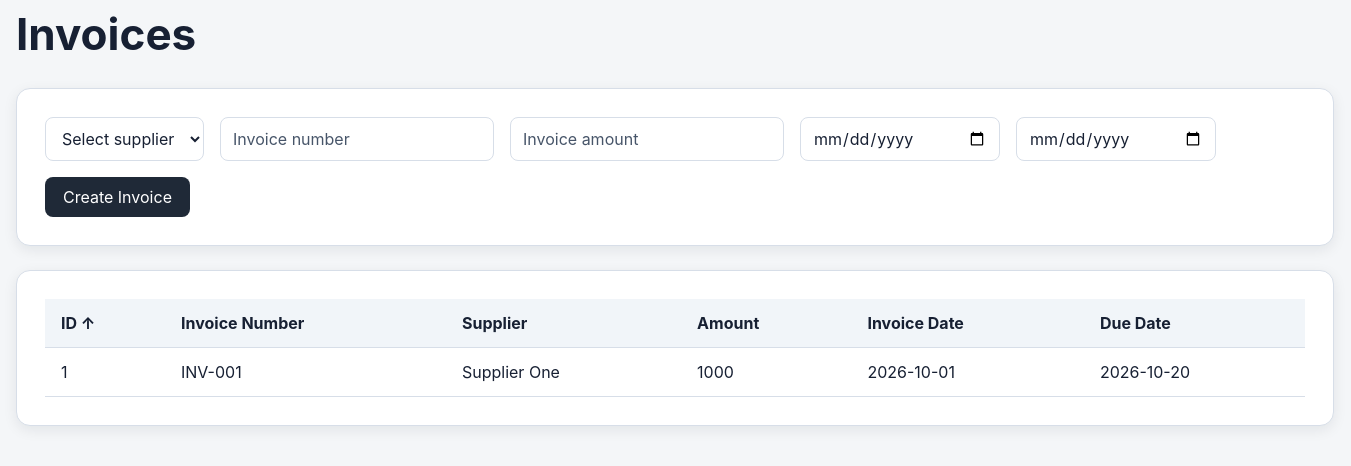
Test: InvoicesPage › blocks invalid due date
Expected: the text "INV-001" is shown, [165, 347, 446, 396]
Select "Supplier One" in the dropdown: (124, 139) [45, 117, 204, 161]
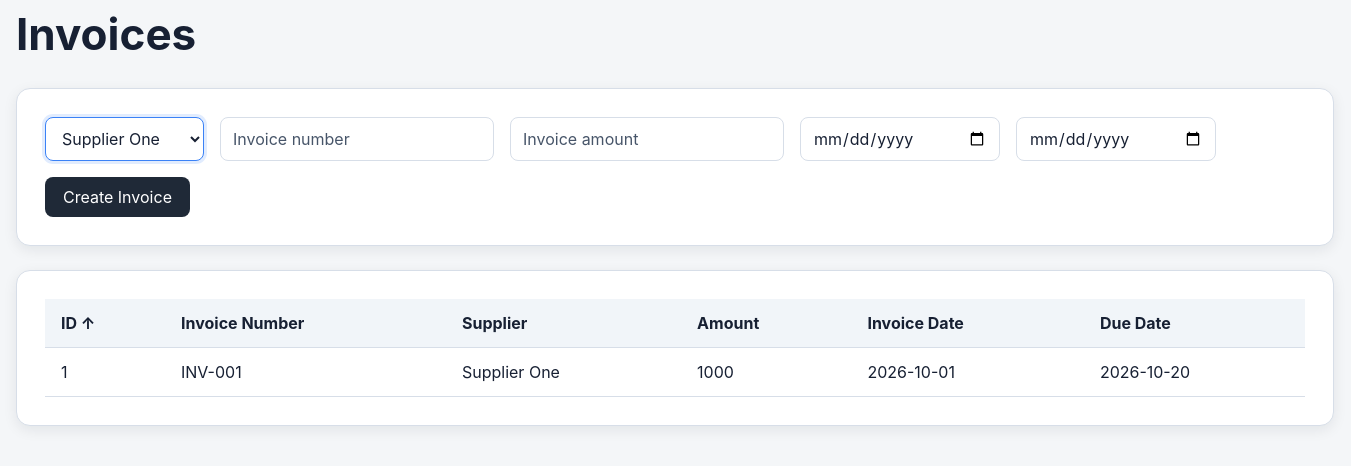
In the field with placeholder "Invoice number": (357, 139) [220, 117, 494, 161], type "INV-003"
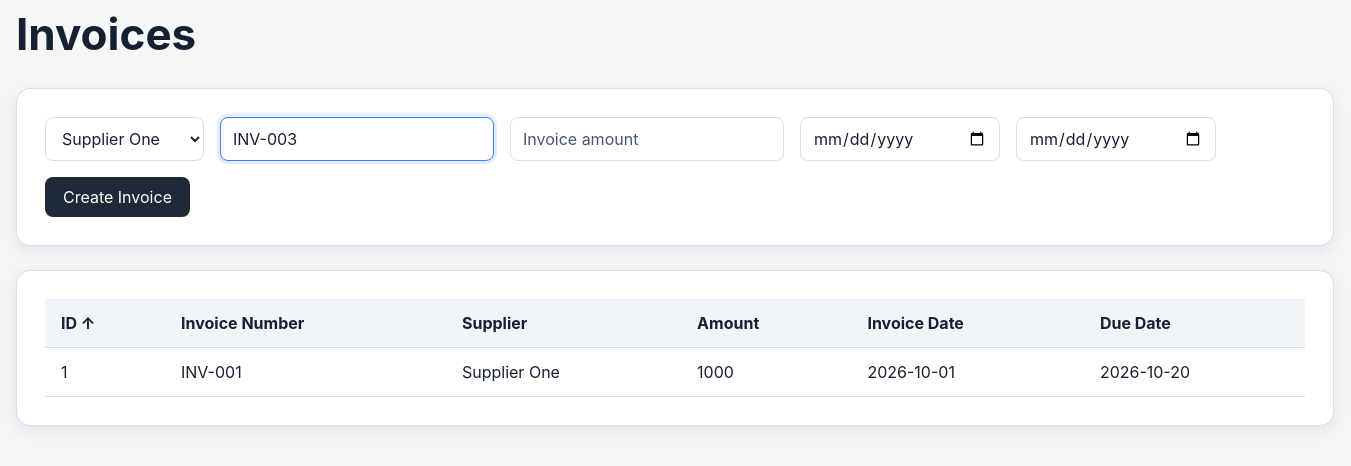
In the number field with placeholder "Invoice amount": (647, 139) [510, 117, 784, 161], type "100"
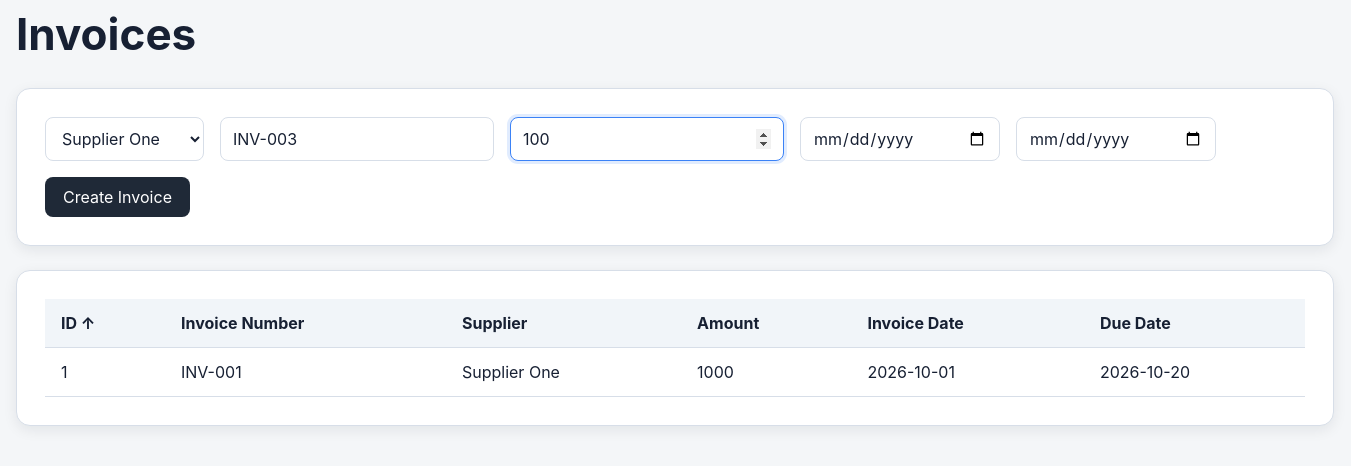
In the 1st date field: (900, 139) [800, 117, 1000, 161], type "2026-10-20"
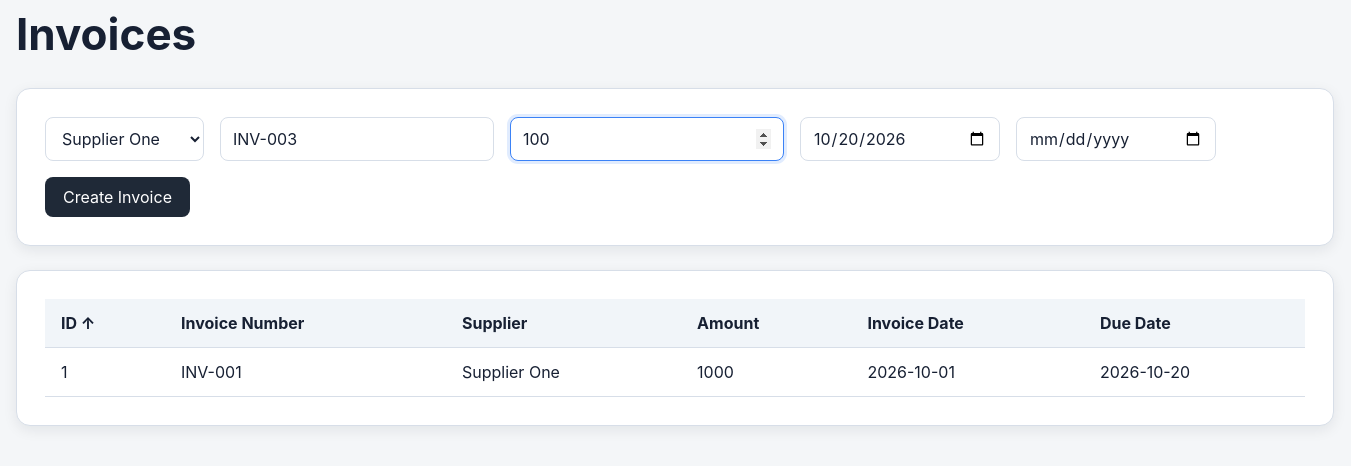
In the 2nd date field: (1116, 139) [1016, 117, 1216, 161], type "2026-10-10"
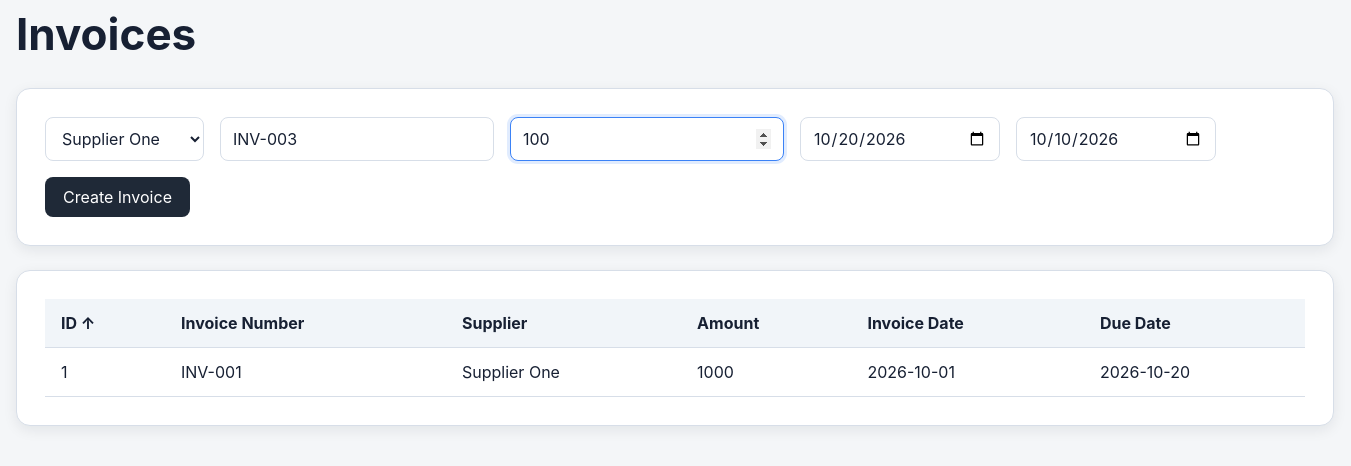
Submit the form "Create Invoice", box [16, 88, 1334, 246]
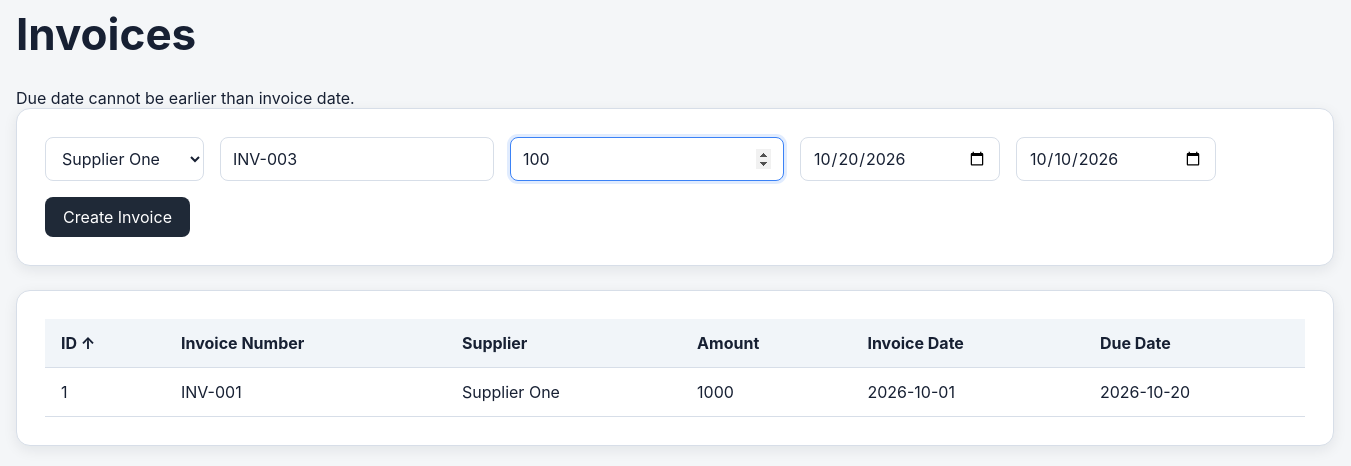
Result: the text "Due date cannot be earlier than invoice date." is shown at [16, 88, 355, 108]
